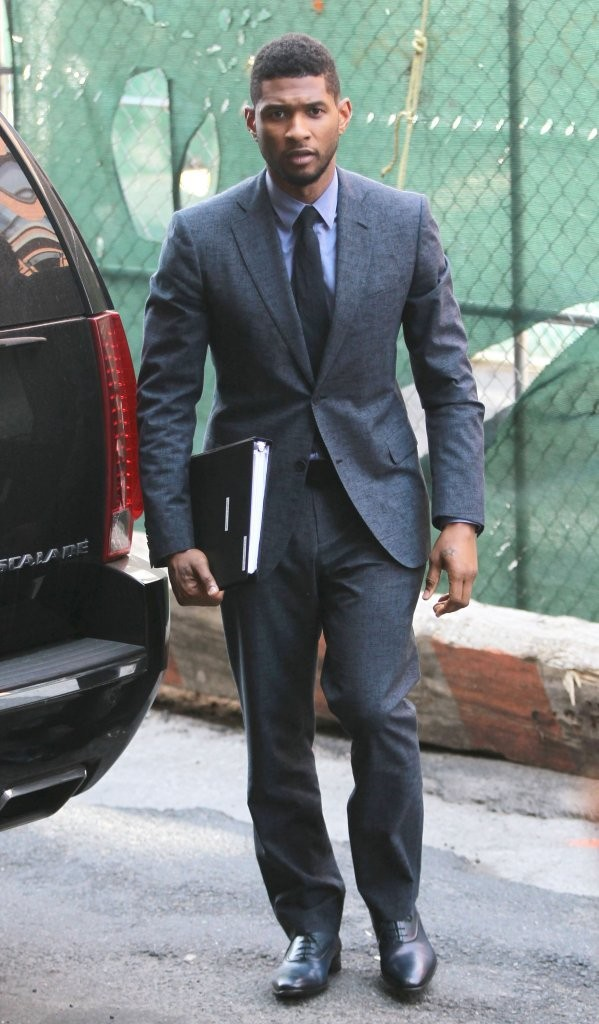Person: (137, 31, 487, 1024)
